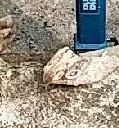text: (60, 60, 86, 88)
